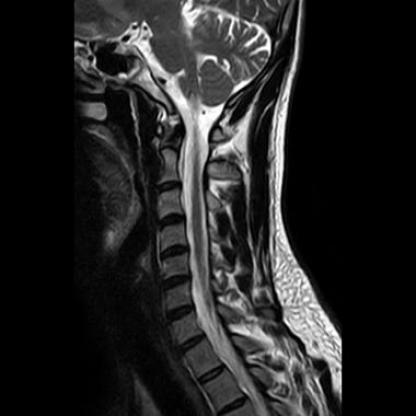Degenerative Disc Diseaserotation: (156, 212, 187, 229), (167, 305, 197, 321), (158, 245, 190, 260)
